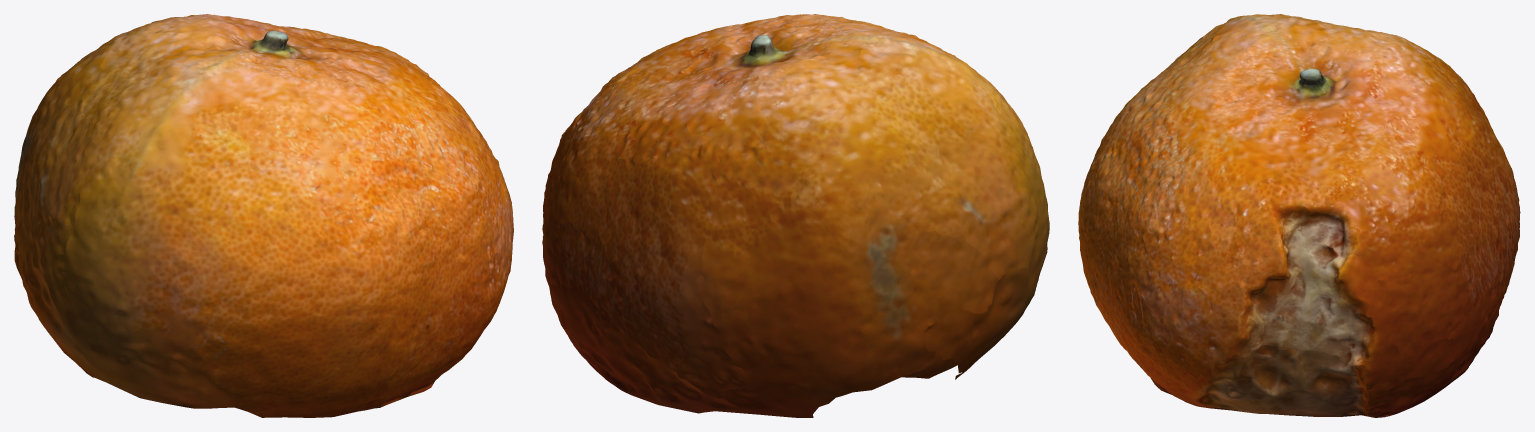
The model's file is orange.glb.
3 views of the same model, side by side, from view 1: azimuth 30°, elevation 25°; view 2: azimuth 150°, elevation 25°; view 3: azimuth 270°, elevation 25° (orthographic). The views are drawn at different scales.
Parts seen in each view (by area): view 1: Scene; view 2: Scene; view 3: Scene.
Boxes of the visible parts, bbox=[...] form: Scene: bbox=[14, 14, 513, 417]; Scene: bbox=[542, 14, 1049, 417]; Scene: bbox=[1078, 14, 1520, 417].
Size of the model in its own units: 0.0845 by 0.0594 by 0.0801.
Materials: 1 (1 with a texture image).
